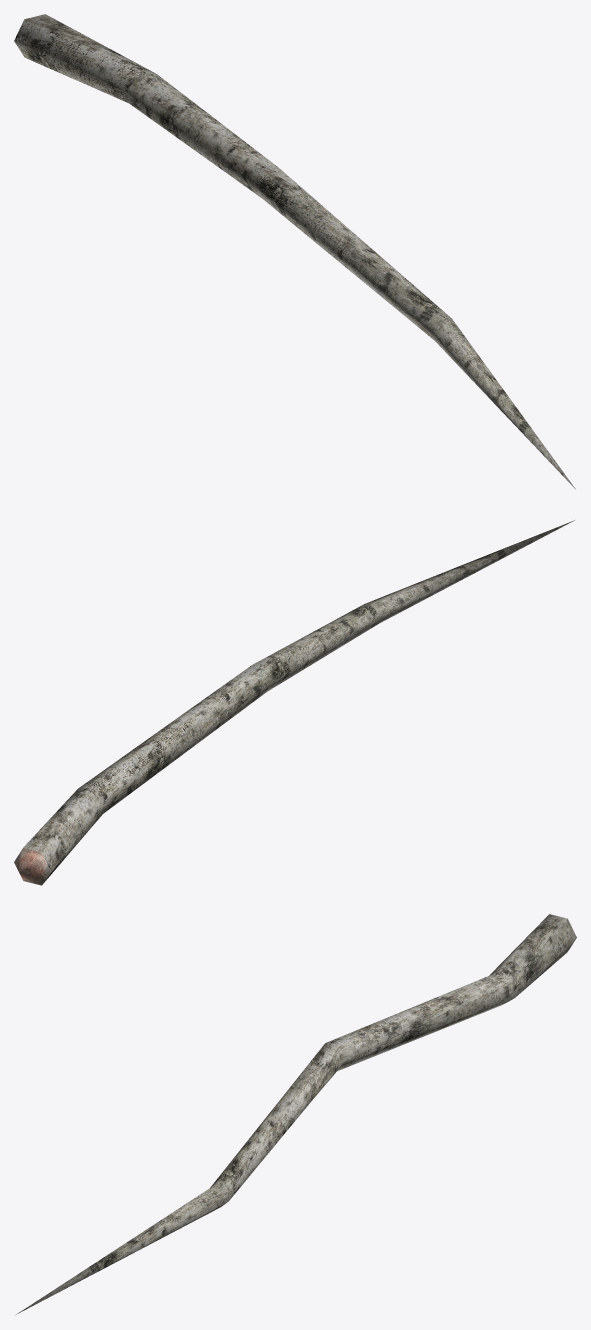
Rendered from decd_whitebirchlog_sm_l0.fbx.
3 views of the same model, one above another, from view 1: azimuth 30°, elevation 25°; view 2: azimuth 150°, elevation 25°; view 3: azimuth 330°, elevation 25° (orthographic). The views are drawn at different scales.
Parts seen in each view (by area): view 1: mesh_node; view 2: mesh_node; view 3: mesh_node.
Part boxes in pixels (x1,y1,x2,y2): mesh_node: (14, 14, 575, 489); mesh_node: (14, 520, 574, 885); mesh_node: (16, 914, 576, 1314).
Bounding box in the file's own units: 0.7585 × 0.6756 × 10.18.
